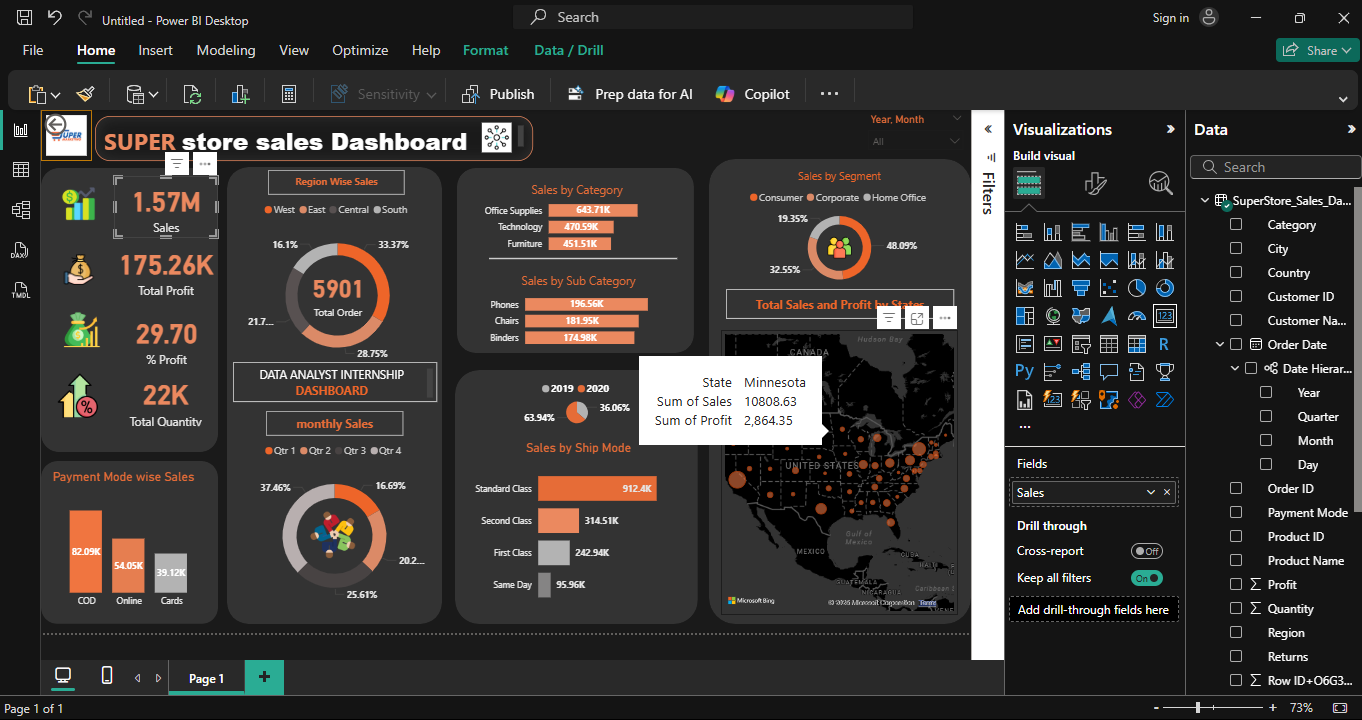

The dashboard page shown, as its layout file describes it:
{"tool":"powerbi","page":{"name":"Page 1","canvas":[1280,720],"ordinal":0},"visuals":[{"type":"group","id":"g1","title":"Group 1","box":[0,0,677.2,70.2],"z":0,"group":"g2"},{"type":"image","box":[0,0,70.2,70.2],"z":0,"group":"g1"},{"type":"shape","box":[919.4,67.4,360.6,640],"z":0},{"type":"textbox","box":[74.3,8.3,602.8,61.9],"z":1000,"group":"g1"},{"type":"image","box":[598.7,12.4,57.8,50.9],"z":1000,"group":"g2"},{"type":"shape","box":[572.6,79.8,326.2,254.6],"z":1000},{"type":"shape","box":[256,78.5,295.9,629],"z":2000},{"type":"shape","box":[0,79.8,243.6,390.9],"z":3000},{"type":"shape","box":[0,482.6,243.7,224.4],"z":4000},{"type":"shape","box":[569.8,357.8,334.5,349.6],"z":5000},{"type":"group","id":"g2","title":"Group 2","box":[0,0,677.2,70.2],"z":6000},{"type":"actionButton","box":[0,0,100,40],"z":7000},{"type":"slicer","fields":{"Values":["SuperStore_Sales_Dataset.Order Date.Variation.Date Hierarchy.Year","SuperStore_Sales_Dataset.Order Date.Variation.Date Hierarchy.Month"]},"box":[1128.6,0,151.4,70.2],"z":8000},{"type":"clusteredBarChart","title":"Sales by Ship Mode","fields":{"Y":["Sum(SuperStore_Sales_Dataset.Sales)"],"Category":["SuperStore_Sales_Dataset.Ship Mode"]},"box":[586.3,454.2,306.9,240.9],"z":9000},{"type":"donutChart","fields":{"Y":["Sum(SuperStore_Sales_Dataset.Sales)"],"Category":["SuperStore_Sales_Dataset.Order Date.Variation.Date Hierarchy.Quarter"]},"box":[276.6,448.7,254.6,246.4],"z":10000},{"type":"pieChart","fields":{"Y":["Sum(SuperStore_Sales_Dataset.Sales)"],"Category":["SuperStore_Sales_Dataset.Order Date.Variation.Date Hierarchy.Year"]},"box":[627.6,363.4,220.2,77.1],"z":11000},{"type":"barChart","fields":{"Category":["SuperStore_Sales_Dataset.Category"],"Y":["Sum(SuperStore_Sales_Dataset.Sales)"]},"box":[598.7,107.4,275.3,100.5],"z":12000},{"type":"textbox","box":[667.5,93.6,140.4,34.4],"z":13000},{"type":"shape","box":[616.5,189.4,259.4,29],"z":14000},{"type":"textbox","box":[649.6,218.8,180.3,34.4],"z":15000},{"type":"barChart","fields":{"Category":["SuperStore_Sales_Dataset.Sub-Category"],"Y":["Sum(SuperStore_Sales_Dataset.Sales)"]},"box":[608.3,236.7,275.3,100.5],"z":16000},{"type":"textbox","box":[309.7,414.3,188.6,34.4],"z":17000},{"type":"clusteredColumnChart","title":"Payment Mode wise Sales","fields":{"Y":["Sum(SuperStore_Sales_Dataset.Profit)"],"Category":["SuperStore_Sales_Dataset.Payment Mode"]},"box":[10.9,494.6,220.8,200.3],"z":18000},{"type":"card","fields":{"Values":["Sum(SuperStore_Sales_Dataset.Sales)"]},"box":[100.1,90.5,143.6,85.7],"z":19000},{"type":"image","box":[20.5,95.3,61.5,67.6],"z":20000},{"type":"card","fields":{"Values":["Sum(SuperStore_Sales_Dataset.Profit)"]},"box":[100.5,176.2,143.1,88.1],"z":21000},{"type":"card","fields":{"Values":["Sum(SuperStore_Sales_Dataset.Quantity)"]},"box":[100.5,359.2,141.8,81.2],"z":22000},{"type":"image","box":[26.5,193,51.9,53.1],"z":23000},{"type":"image","box":[25.3,271.4,61.5,61.5],"z":24000},{"type":"image","box":[14.5,358.3,71.2,71.2],"z":25000},{"type":"card","fields":{"Values":["Avg(SuperStore_Sales_Dataset.Profit)"]},"box":[101.8,273.9,141.8,82.6],"z":26000},{"type":"textbox","box":[312.5,83.2,188.2,33.8],"z":27000},{"type":"donutChart","fields":{"Category":["SuperStore_Sales_Dataset.Region"],"Y":["Sum(SuperStore_Sales_Dataset.Sales)"]},"box":[280.8,117,254.6,247.7],"z":28000},{"type":"card","fields":{"Values":["CountNonNull(SuperStore_Sales_Dataset.Order ID)"]},"box":[360.6,213.3,96.3,78.5],"z":29000},{"type":"textbox","box":[942.8,246.4,313.8,41.3],"z":31000},{"type":"map","fields":{"Category":["SuperStore_Sales_Dataset.State"],"Size":["Sum(SuperStore_Sales_Dataset.Sales)"]},"box":[935.9,302.8,326.2,392.3],"z":32000},{"type":"donutChart","title":"Sales by Segment","fields":{"Category":["SuperStore_Sales_Dataset.Segment"],"Y":["Sum(SuperStore_Sales_Dataset.Sales)"]},"box":[935.9,79.8,326.2,170.7],"z":32001},{"type":"image","box":[1077.7,165.2,42.7,49.5],"z":32002},{"type":"image","box":[360.6,547.8,81.2,74.3],"z":32003},{"type":"textbox","box":[264.3,346.8,280.8,55.1],"z":32004}]}

Visuals, with their boxes on the page's 1280x720 design canvas (x1, y1, x2, y2). These are canvas units, not pixel positions in the 1362x720 screenshot, which may show the page scaled, cropped or inside an application window:
"Group 1" group: box(0, 0, 677, 70)
image: box(0, 0, 70, 70)
shape: box(919, 67, 1280, 707)
textbox: box(74, 8, 677, 70)
image: box(599, 12, 656, 63)
shape: box(573, 80, 899, 334)
shape: box(256, 78, 552, 708)
shape: box(0, 80, 244, 471)
shape: box(0, 483, 244, 707)
shape: box(570, 358, 904, 707)
"Group 2" group: box(0, 0, 677, 70)
actionButton: box(0, 0, 100, 40)
slicer - SuperStore_Sales_Dataset.Order Date.Variation.Date Hierarchy.Year x SuperStore_Sales_Dataset.Order Date.Variation.Date Hierarchy.Month: box(1129, 0, 1280, 70)
"Sales by Ship Mode" clusteredBarChart: box(586, 454, 893, 695)
donutChart - Sum(SuperStore_Sales_Dataset.Sales) x SuperStore_Sales_Dataset.Order Date.Variation.Date Hierarchy.Quarter: box(277, 449, 531, 695)
pieChart - Sum(SuperStore_Sales_Dataset.Sales) x SuperStore_Sales_Dataset.Order Date.Variation.Date Hierarchy.Year: box(628, 363, 848, 440)
barChart - SuperStore_Sales_Dataset.Category x Sum(SuperStore_Sales_Dataset.Sales): box(599, 107, 874, 208)
textbox: box(668, 94, 808, 128)
shape: box(616, 189, 876, 218)
textbox: box(650, 219, 830, 253)
barChart - SuperStore_Sales_Dataset.Sub-Category x Sum(SuperStore_Sales_Dataset.Sales): box(608, 237, 884, 337)
textbox: box(310, 414, 498, 449)
"Payment Mode wise Sales" clusteredColumnChart: box(11, 495, 232, 695)
card - Sum(SuperStore_Sales_Dataset.Sales): box(100, 90, 244, 176)
image: box(20, 95, 82, 163)
card - Sum(SuperStore_Sales_Dataset.Profit): box(100, 176, 244, 264)
card - Sum(SuperStore_Sales_Dataset.Quantity): box(100, 359, 242, 440)
image: box(26, 193, 78, 246)
image: box(25, 271, 87, 333)
image: box(14, 358, 86, 430)
card - Avg(SuperStore_Sales_Dataset.Profit): box(102, 274, 244, 356)
textbox: box(312, 83, 501, 117)
donutChart - SuperStore_Sales_Dataset.Region x Sum(SuperStore_Sales_Dataset.Sales): box(281, 117, 535, 365)
card - CountNonNull(SuperStore_Sales_Dataset.Order ID): box(361, 213, 457, 292)
textbox: box(943, 246, 1257, 288)
map - SuperStore_Sales_Dataset.State x Sum(SuperStore_Sales_Dataset.Sales): box(936, 303, 1262, 695)
"Sales by Segment" donutChart: box(936, 80, 1262, 250)
image: box(1078, 165, 1120, 215)
image: box(361, 548, 442, 622)
textbox: box(264, 347, 545, 402)
